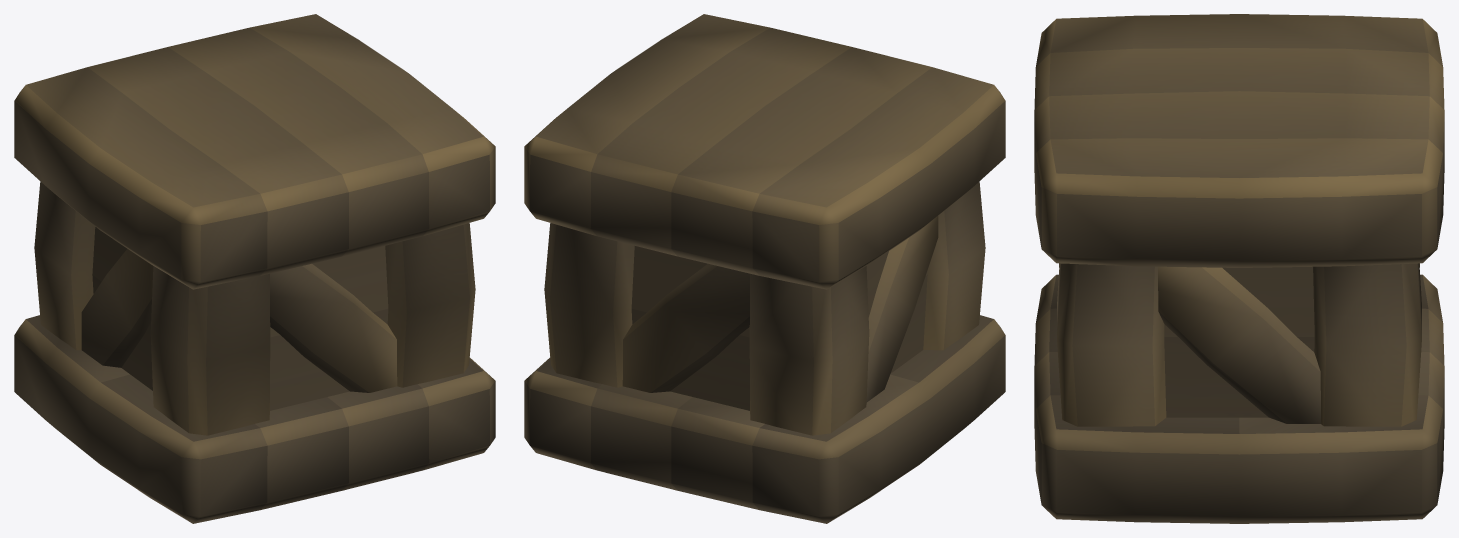
Rendered from orc_box_large_1.fbx.
3 views of the same model, side by side, from view 1: azimuth 30°, elevation 25°; view 2: azimuth 150°, elevation 25°; view 3: azimuth 270°, elevation 25° (orthographic). The views are drawn at different scales.
Visible parts, largest first — view 1: orc_box_large_1; view 2: orc_box_large_1; view 3: orc_box_large_1.
Boxes of the visible parts, x1,y1,x2,y2 form: orc_box_large_1: (14,14,495,523); orc_box_large_1: (524,14,1005,523); orc_box_large_1: (1034,14,1444,523).
Size of the model in its own units: 113 by 105 by 111.
